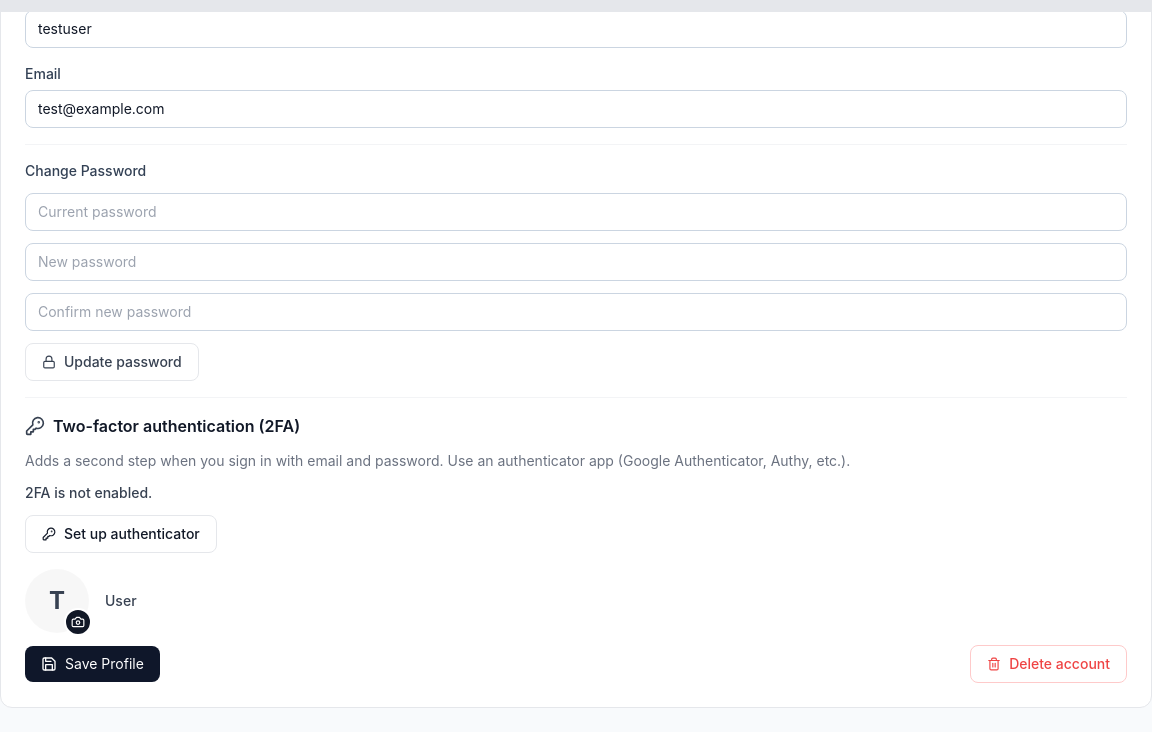
Test: AccountTab – Profile › FE-COMP-ACCOUNT-015: successful save shows success toast
The width and height of the screenshot is (1152, 732).
Click the button "Save Profile".
click(92, 664)  # box [25,646,160,682]
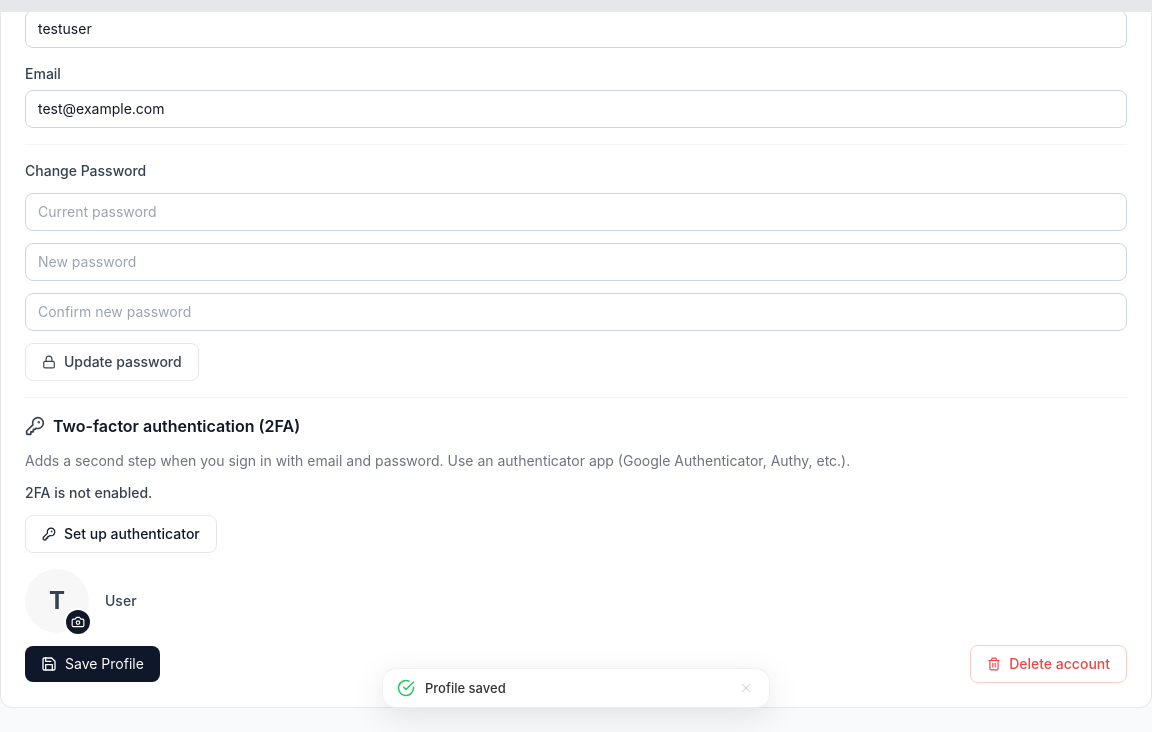
Check: the text "Profile saved" is shown, box [425,680,506,696]
